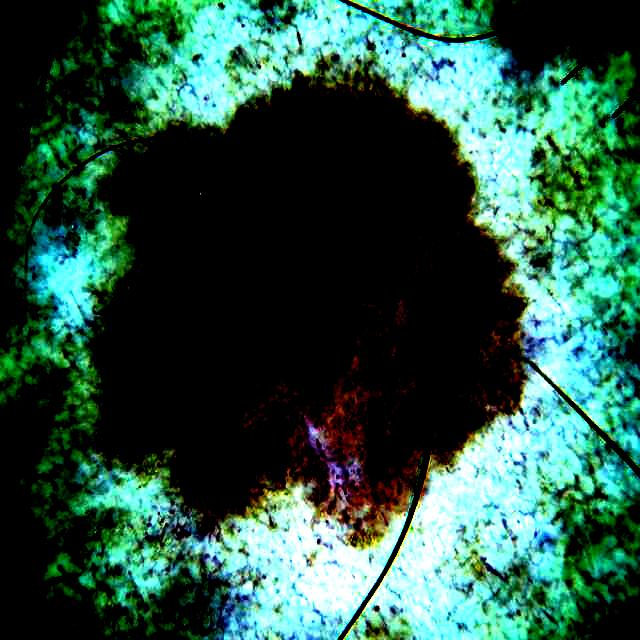MEL: (100, 84, 523, 538)
